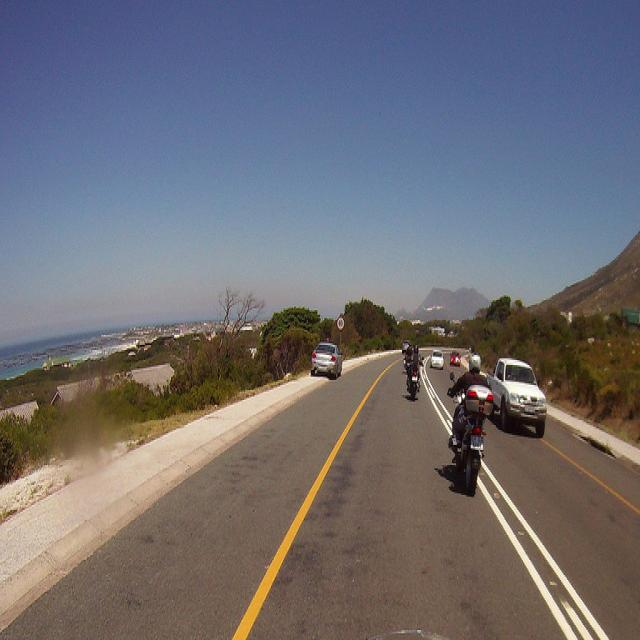motor: (456, 406, 485, 500), (405, 361, 421, 402)
